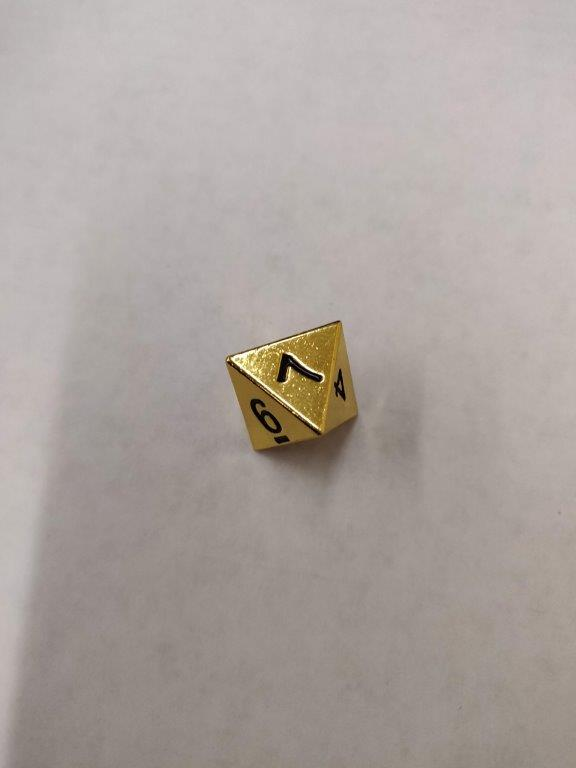d8-7: (226, 318, 359, 455)
